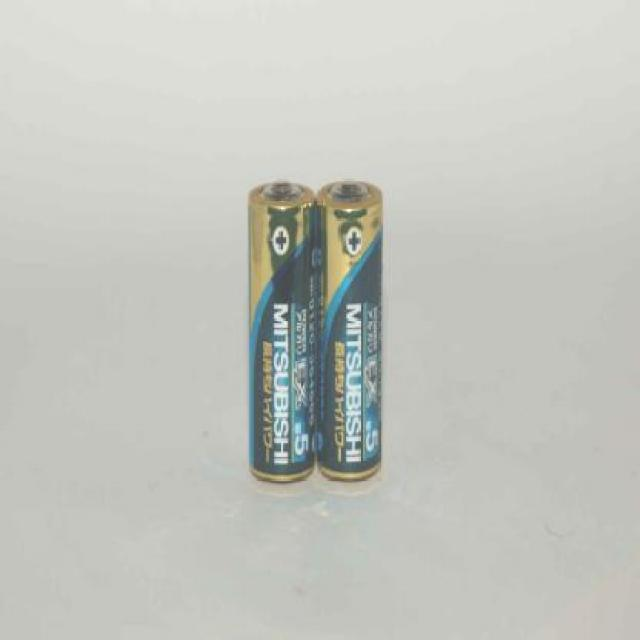AA: (242, 176, 316, 489), (316, 178, 386, 484)
